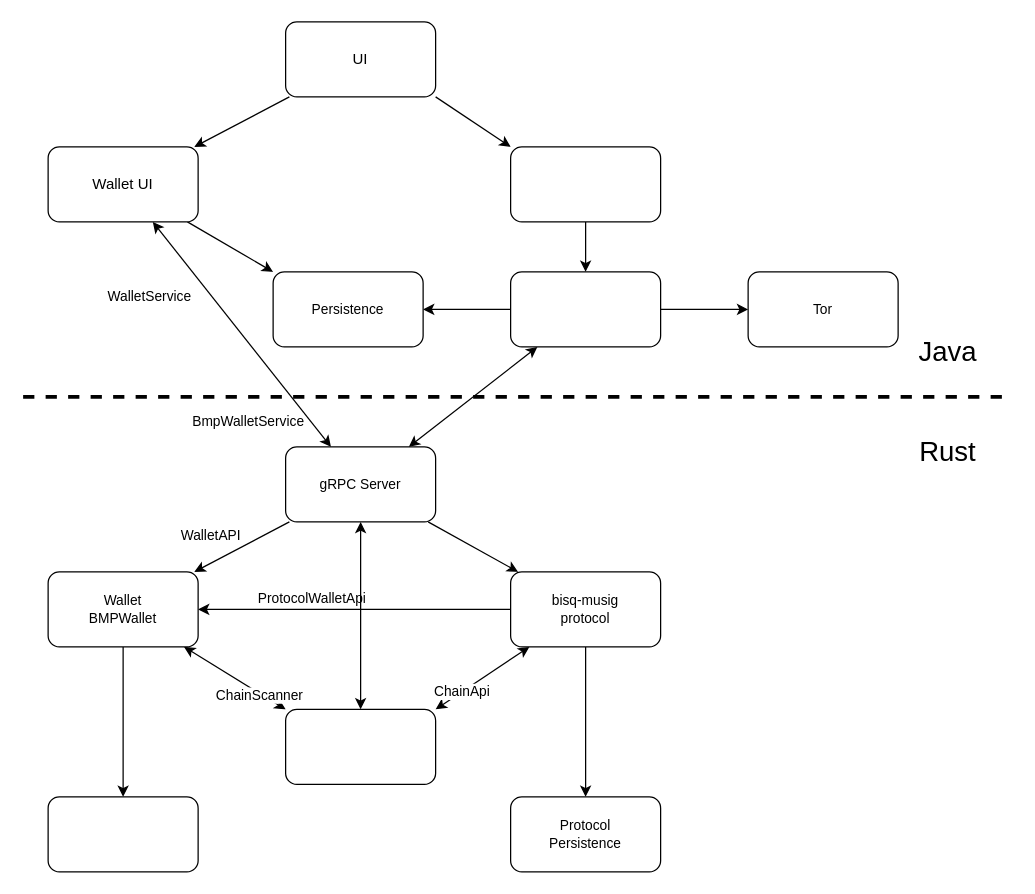
Image size: 1035x894. Some labels were removed from this diagram. Here are the shapes that lost their labels. From the top down, the box of each, then its label:
(509, 146, 661, 222): Protocol UI
(509, 271, 661, 347): trade protocol
(284, 708, 436, 784): chain access
(47, 796, 198, 872): Wallet Persistence
